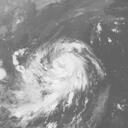cyclone: (28, 39, 89, 99)
